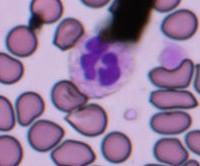N: (68, 35, 134, 100)
